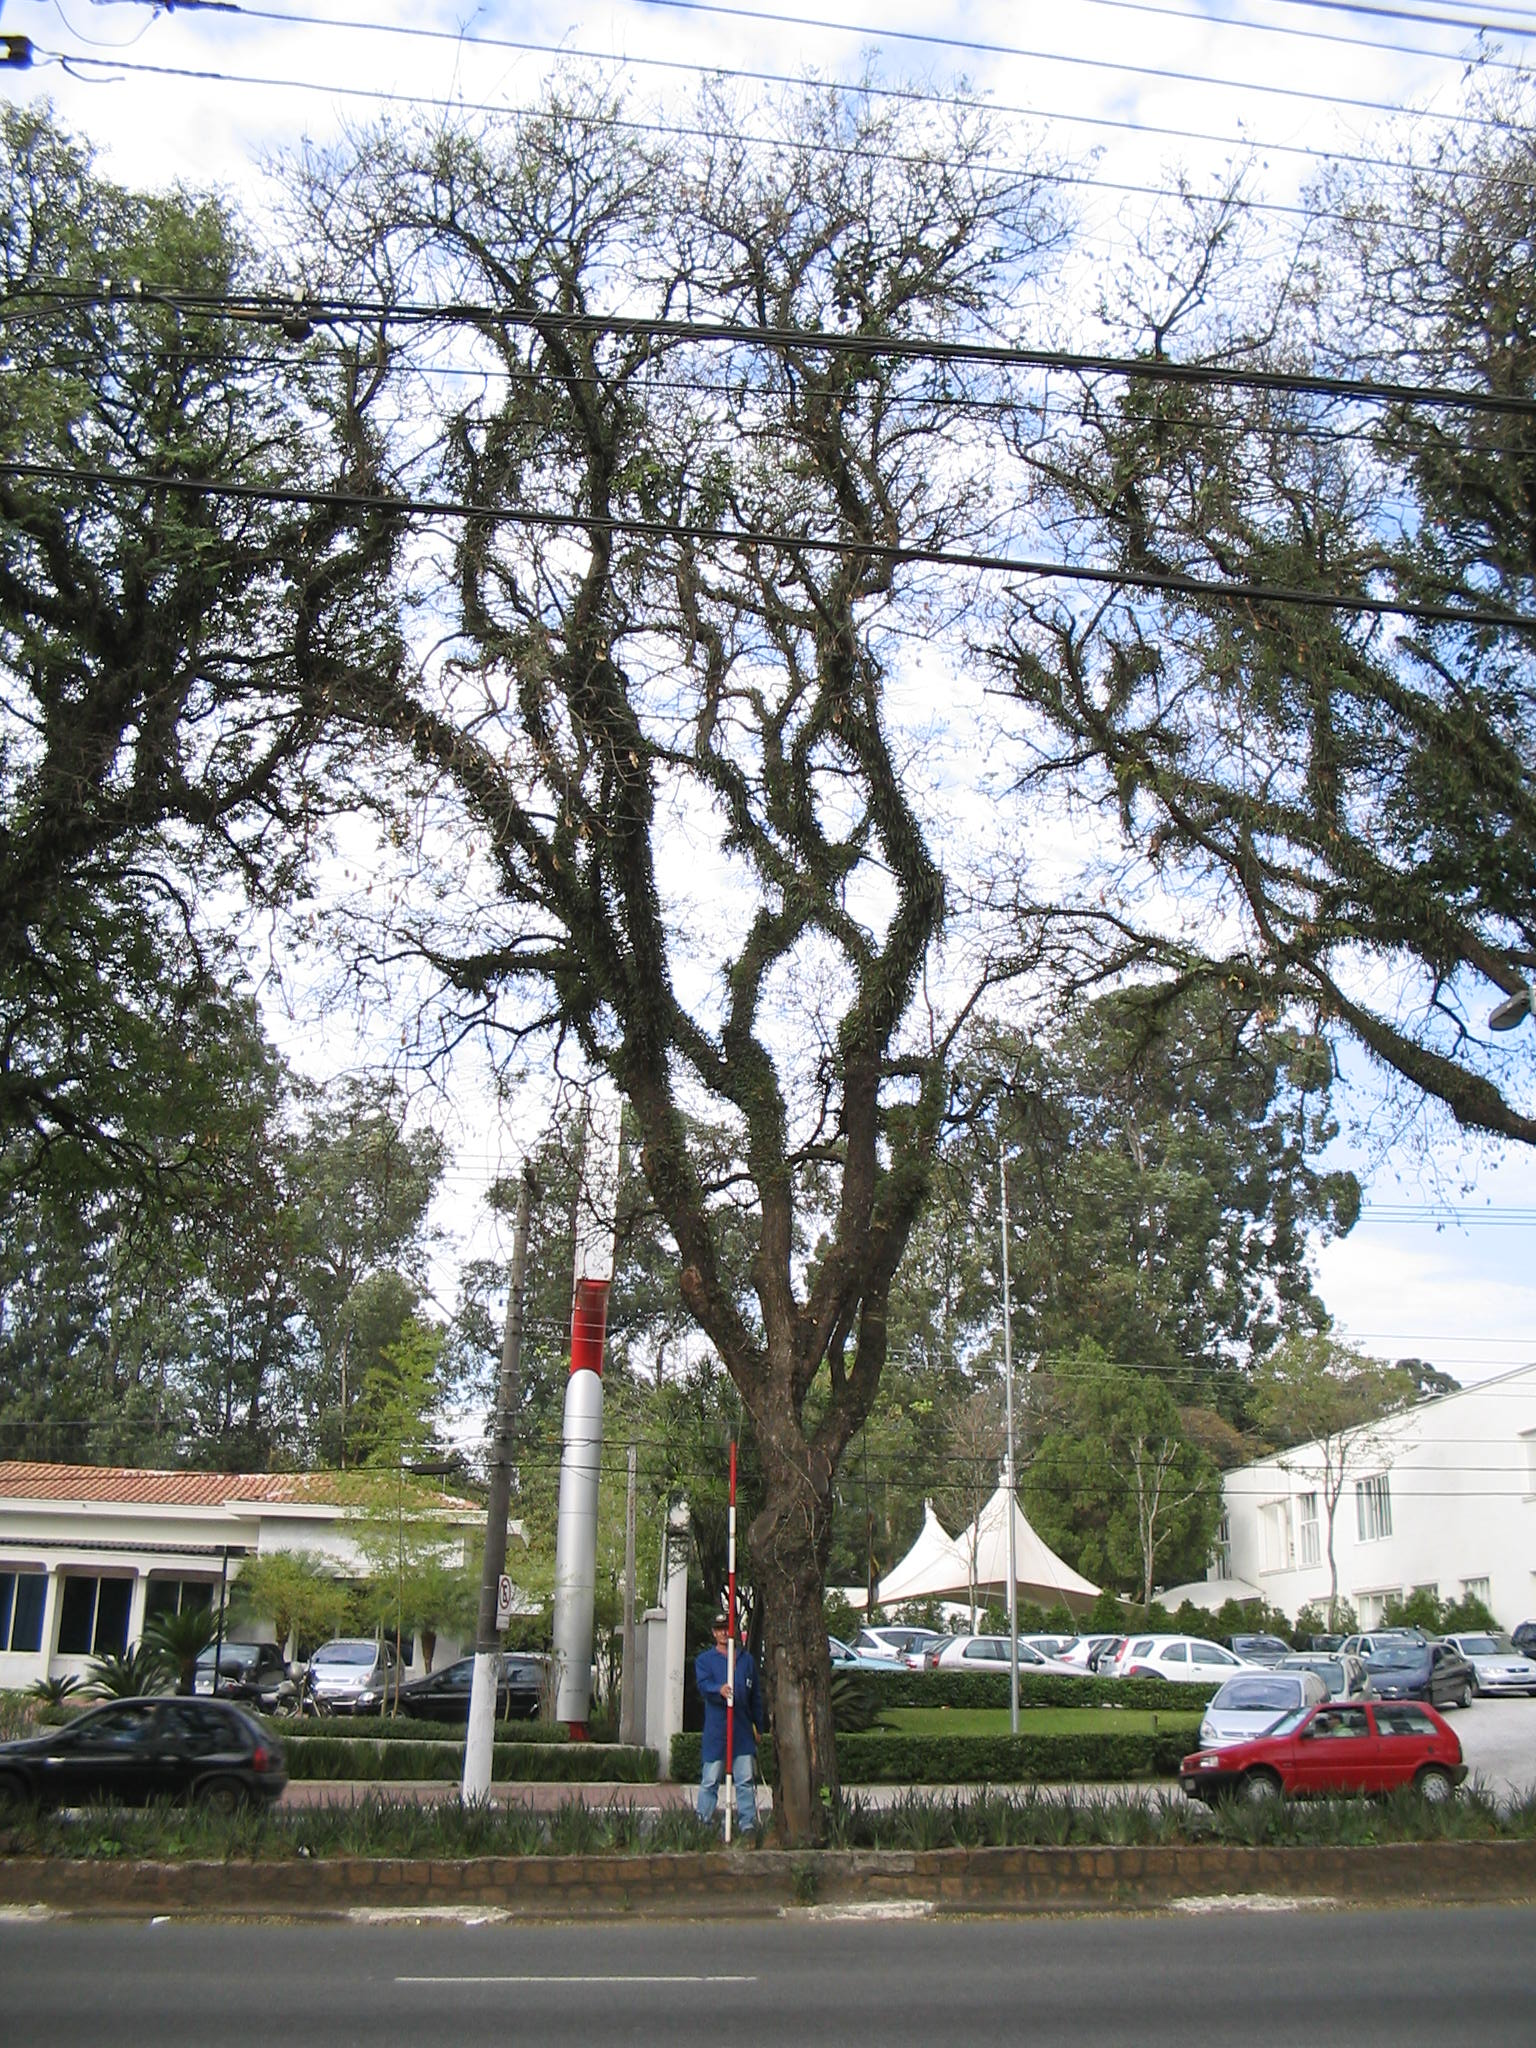stem: (741, 1434, 923, 1845)
stick: (694, 1435, 766, 1863)
tree: (266, 32, 1078, 1854)
